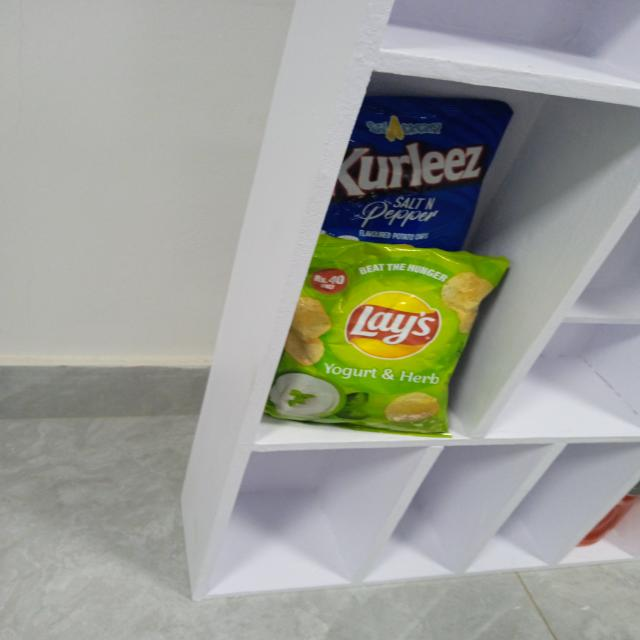Plastic: (268, 262, 508, 430), (326, 95, 509, 240)
